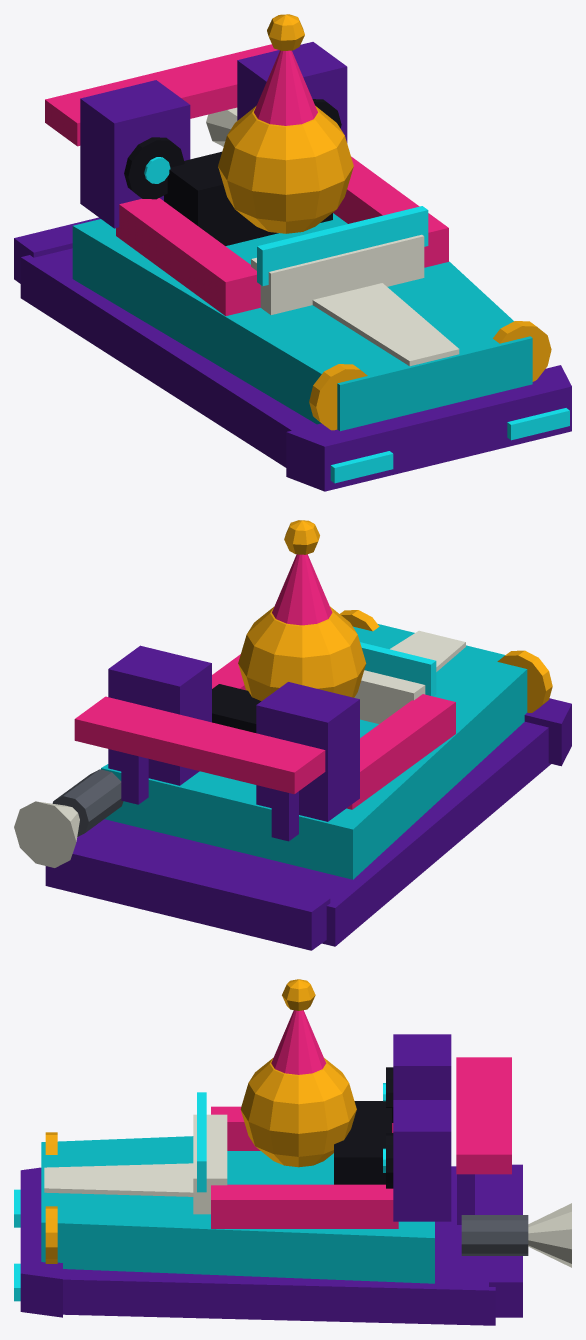
File: PartyCart_Body.obj
3 renders of one model, top to bottom at view 1: azimuth 30°, elevation 25°; view 2: azimuth 150°, elevation 25°; view 3: azimuth 270°, elevation 25°, orthographic. The views are drawn at different scales.
Parts seen in each view (by area): view 1: PartyCart_Body; view 2: PartyCart_Body; view 3: PartyCart_Body.
Boxes of the visible parts, box(x1,y1,x2,y2) form: PartyCart_Body: box(14, 14, 571, 491); PartyCart_Body: box(14, 520, 571, 950); PartyCart_Body: box(14, 979, 571, 1325).
Bounding box in the file's own units: 2.45 × 2.58 × 4.61.
